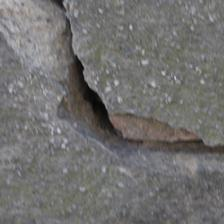Crack: (26, 3, 196, 154)
